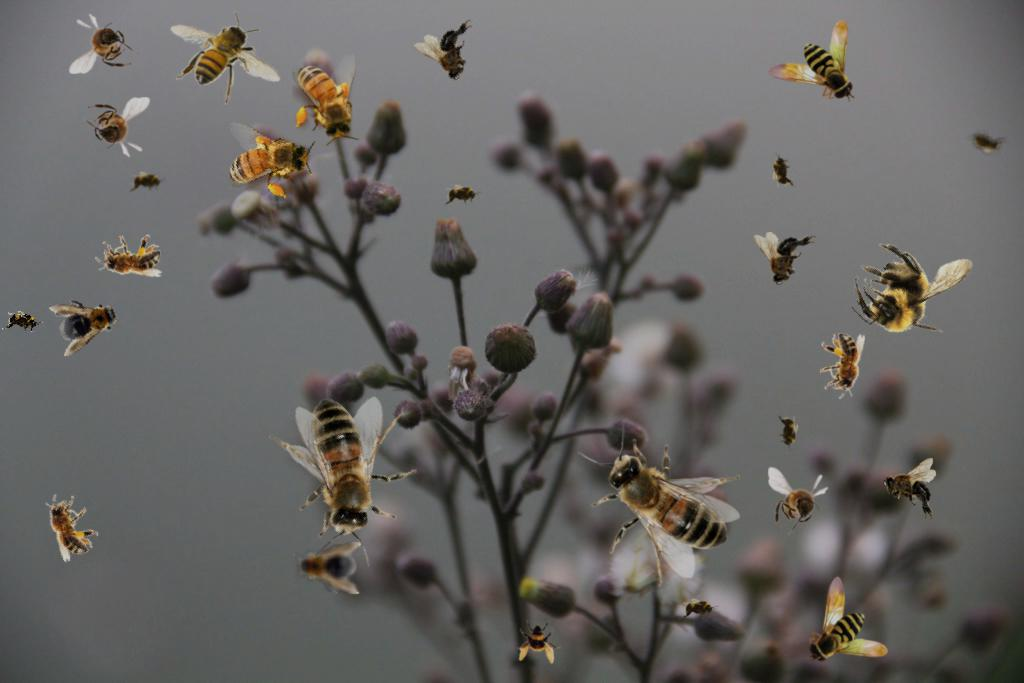Bee: (230, 356, 463, 590), (578, 420, 740, 587), (834, 208, 991, 365), (170, 11, 281, 105), (212, 115, 322, 208), (767, 20, 855, 102), (806, 576, 888, 664), (292, 53, 360, 146), (47, 284, 129, 358), (412, 15, 491, 91), (33, 484, 105, 565), (80, 97, 150, 158), (69, 13, 139, 74), (768, 467, 829, 537), (92, 231, 164, 284), (293, 542, 361, 594), (883, 458, 936, 520), (754, 232, 816, 285), (820, 333, 865, 399), (517, 620, 561, 664), (963, 124, 1009, 160), (1, 307, 45, 337), (768, 149, 796, 193), (777, 412, 799, 452), (679, 598, 719, 620), (127, 171, 167, 193), (442, 184, 482, 206)
